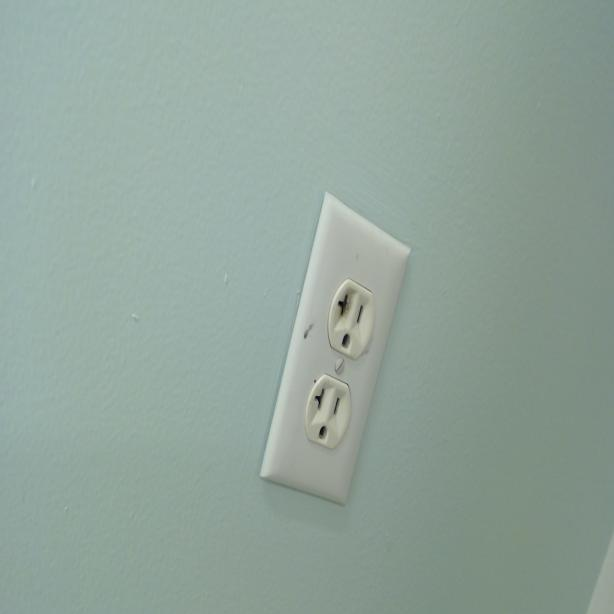typeb: (327, 265, 375, 361), (310, 374, 352, 450)
